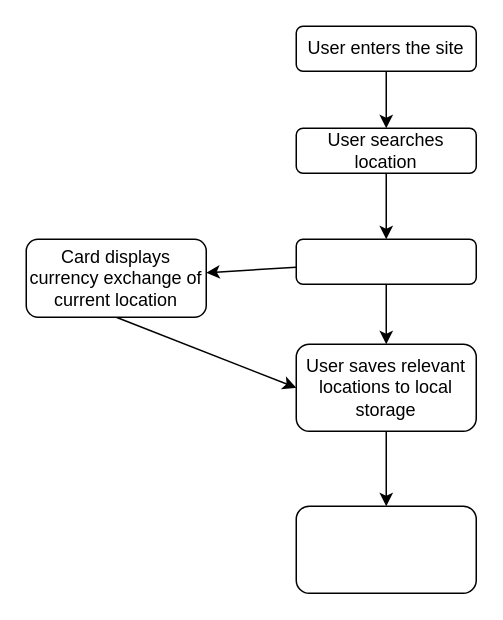
Some shapes in this 503 by 620 pixel diagram are drawn without their labels. The shapes that lost their labels are listed below. From the top down, each one's centre as x and y in pixels, then its label:
At [385,261]: "Attractions load based on user search".
At [385,549]: "User recalls saved attractions to view in a list".
